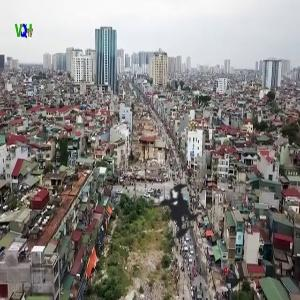drone: (87, 114, 270, 297)
